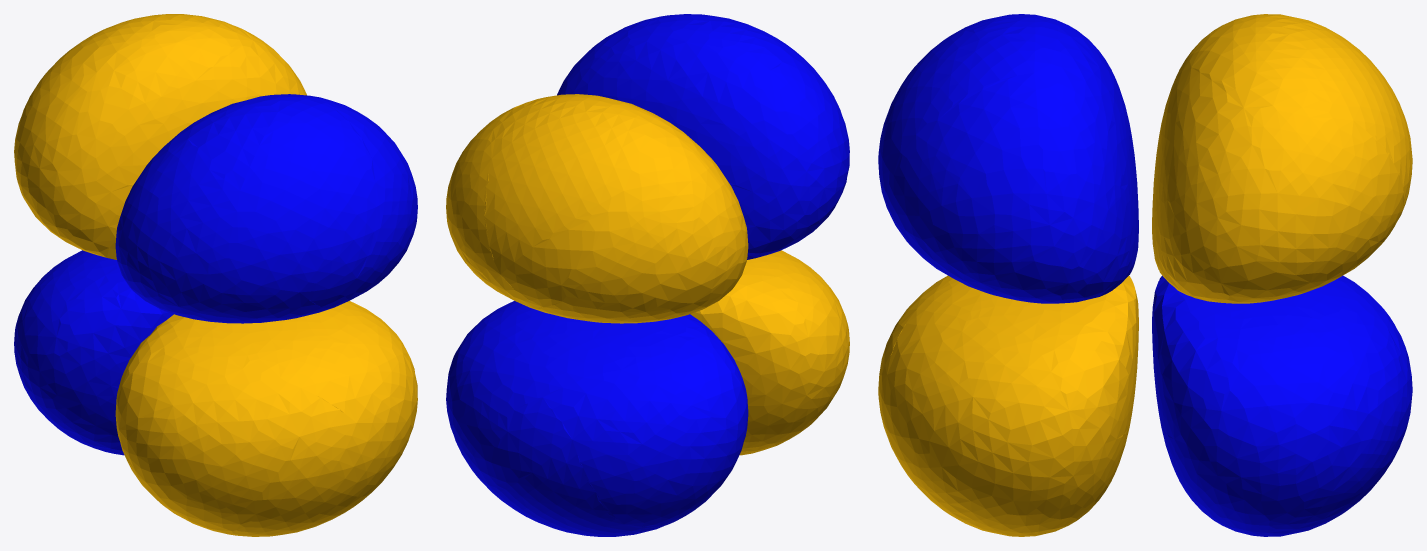
The picture shows the model from 3 angles, left to right: view 1: azimuth 30°, elevation 25°; view 2: azimuth 150°, elevation 25°; view 3: azimuth 270°, elevation 25°; orthographic projection. The views are drawn at different scales.
Bounding box in the file's own units: 11.09 × 16.06 × 16.06.
